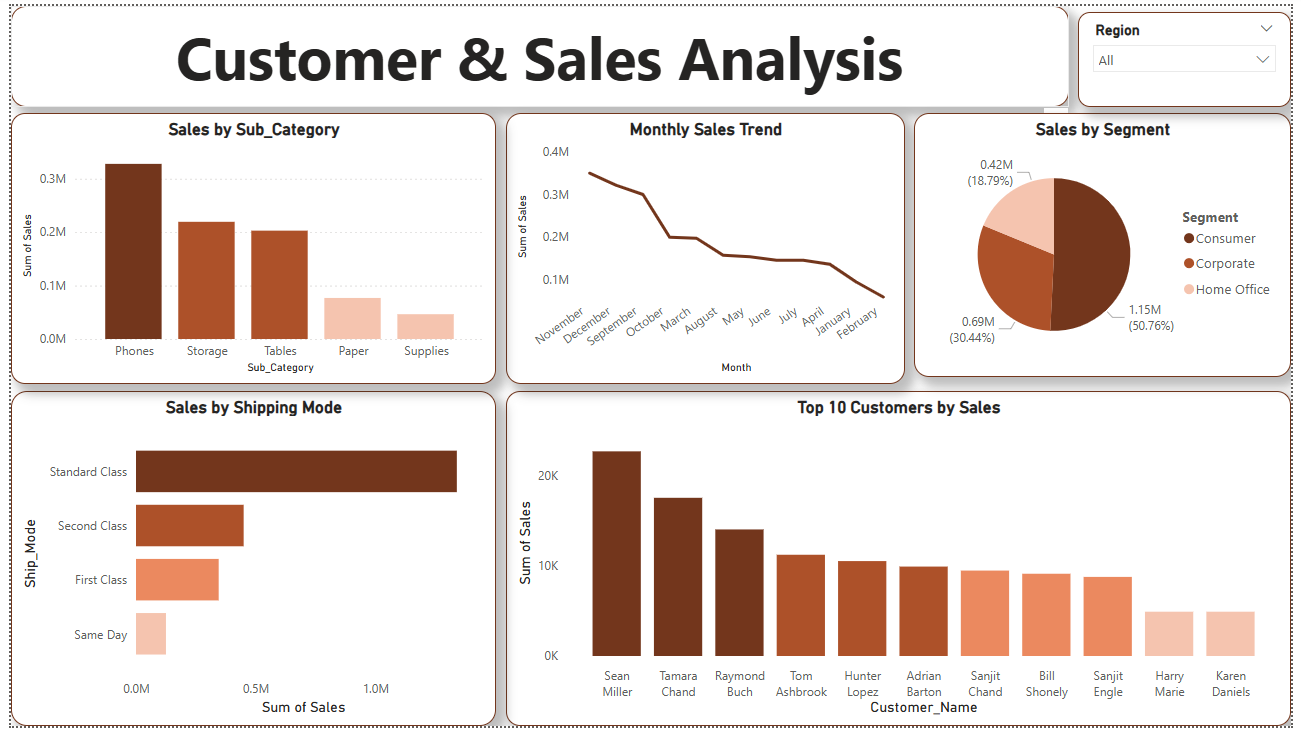

The page's visual inventory and layout, read from the dashboard file:
{"tool":"powerbi","page":{"name":"Page 2","canvas":[1280,720],"ordinal":1},"visuals":[{"type":"textbox","box":[0,0,1058.1,101.3],"z":0},{"type":"columnChart","title":"Top 10 Customers by Sales","fields":{"Y":["Sum(Sales.Sales)"],"Category":["Sales.Customer_Name"]},"box":[494.8,384.9,785.2,334.7],"z":1000},{"type":"barChart","title":" Sales by Shipping Mode","fields":{"Y":["Sum(Sales.Sales)"],"Category":["Sales.Ship_Mode"]},"box":[0,384.9,485.2,334.7],"z":2000},{"type":"lineChart","title":"Monthly Sales Trend","fields":{"Y":["Sum(Sales.Sales)"],"Category":["DateTable.Month"]},"box":[494.8,107.1,399.3,258.5],"z":3000},{"type":"pieChart","title":" Sales by Segment","fields":{"Category":["Sales.Segment"],"Y":["Sum(Sales.Sales)"]},"box":[902.8,107.1,377.2,258.5],"z":4000},{"type":"columnChart","title":" Sales by Sub_Category","fields":{"Y":["Sum(Sales.Sales)"],"Category":["Sales.Sub_Category"]},"box":[0,107.1,485.2,271],"z":5000},{"type":"slicer","fields":{"Values":["Sales.Region"]},"box":[1066.8,5.8,213.2,95.5],"z":6000}]}

Visuals, with their boxes in screenshot pixels (x1, y1, x2, y2), scaled from the page's 1280x720 canvas onto the 1301x730 screenshot:
textbox: [left=0, top=0, right=1075, bottom=103]
"Top 10 Customers by Sales" columnChart: [left=503, top=390, right=1300, bottom=729]
" Sales by Shipping Mode" barChart: [left=0, top=390, right=493, bottom=729]
"Monthly Sales Trend" lineChart: [left=503, top=109, right=909, bottom=371]
" Sales by Segment" pieChart: [left=918, top=109, right=1300, bottom=371]
" Sales by Sub_Category" columnChart: [left=0, top=109, right=493, bottom=383]
slicer - Sales.Region: [left=1084, top=6, right=1300, bottom=103]
